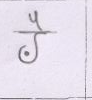ai_matra: (29, 10, 47, 30)
